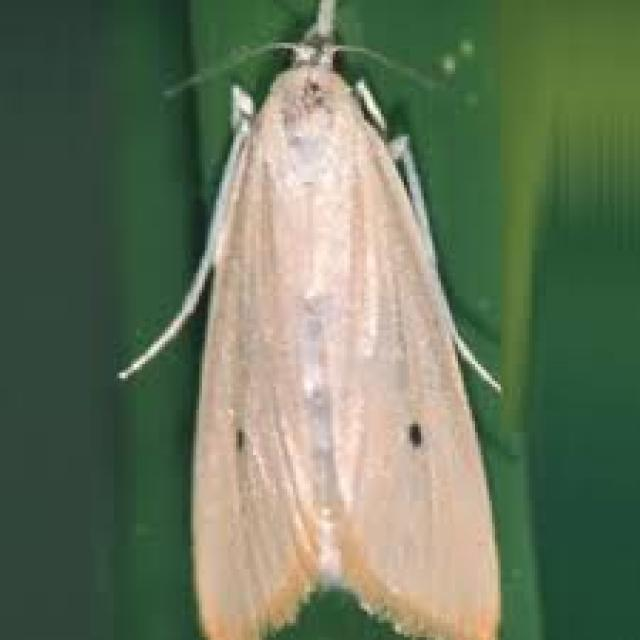yellow-stem-borer: (106, 10, 540, 640)
